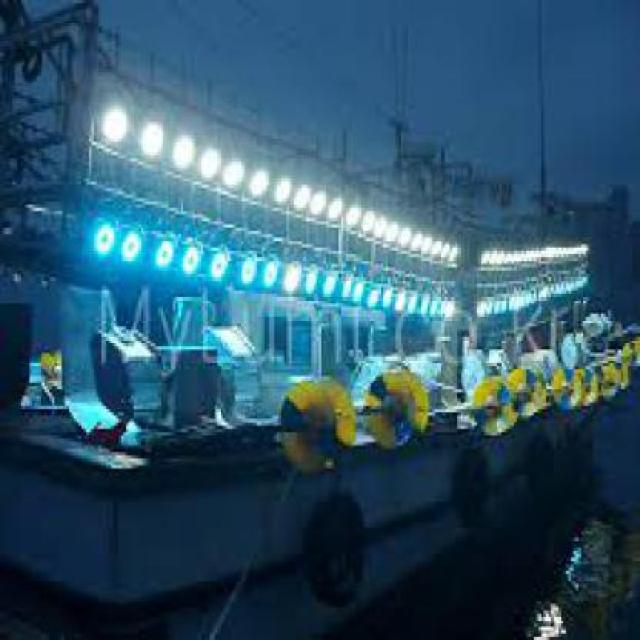fish-b: (1, 1, 639, 639)
